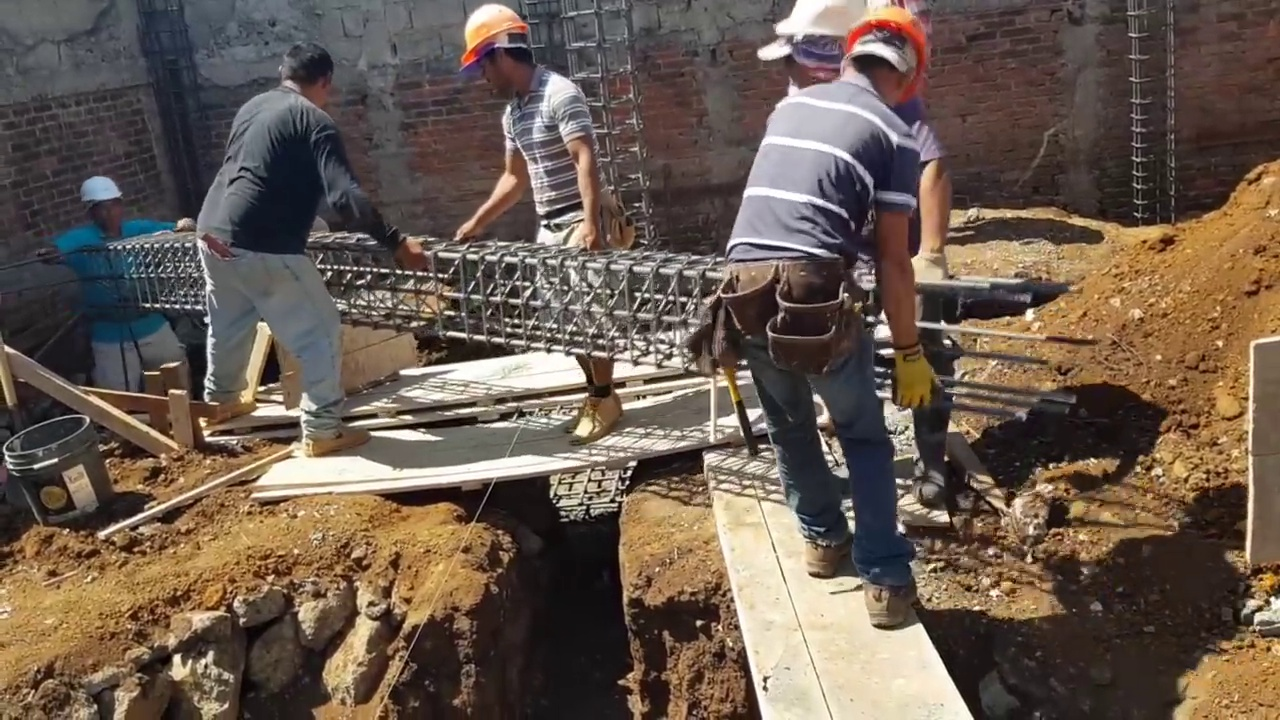helmet: (845, 7, 925, 100), (463, 3, 528, 69), (773, 0, 868, 40), (78, 174, 122, 202)
helmet-off: (276, 39, 336, 108)
helmet-on: (756, 1, 868, 92), (833, 6, 932, 106), (459, 2, 540, 99), (78, 171, 125, 236)
person: (719, 31, 937, 631), (757, 0, 967, 508), (454, 2, 626, 442), (193, 39, 427, 310), (47, 172, 196, 397)
